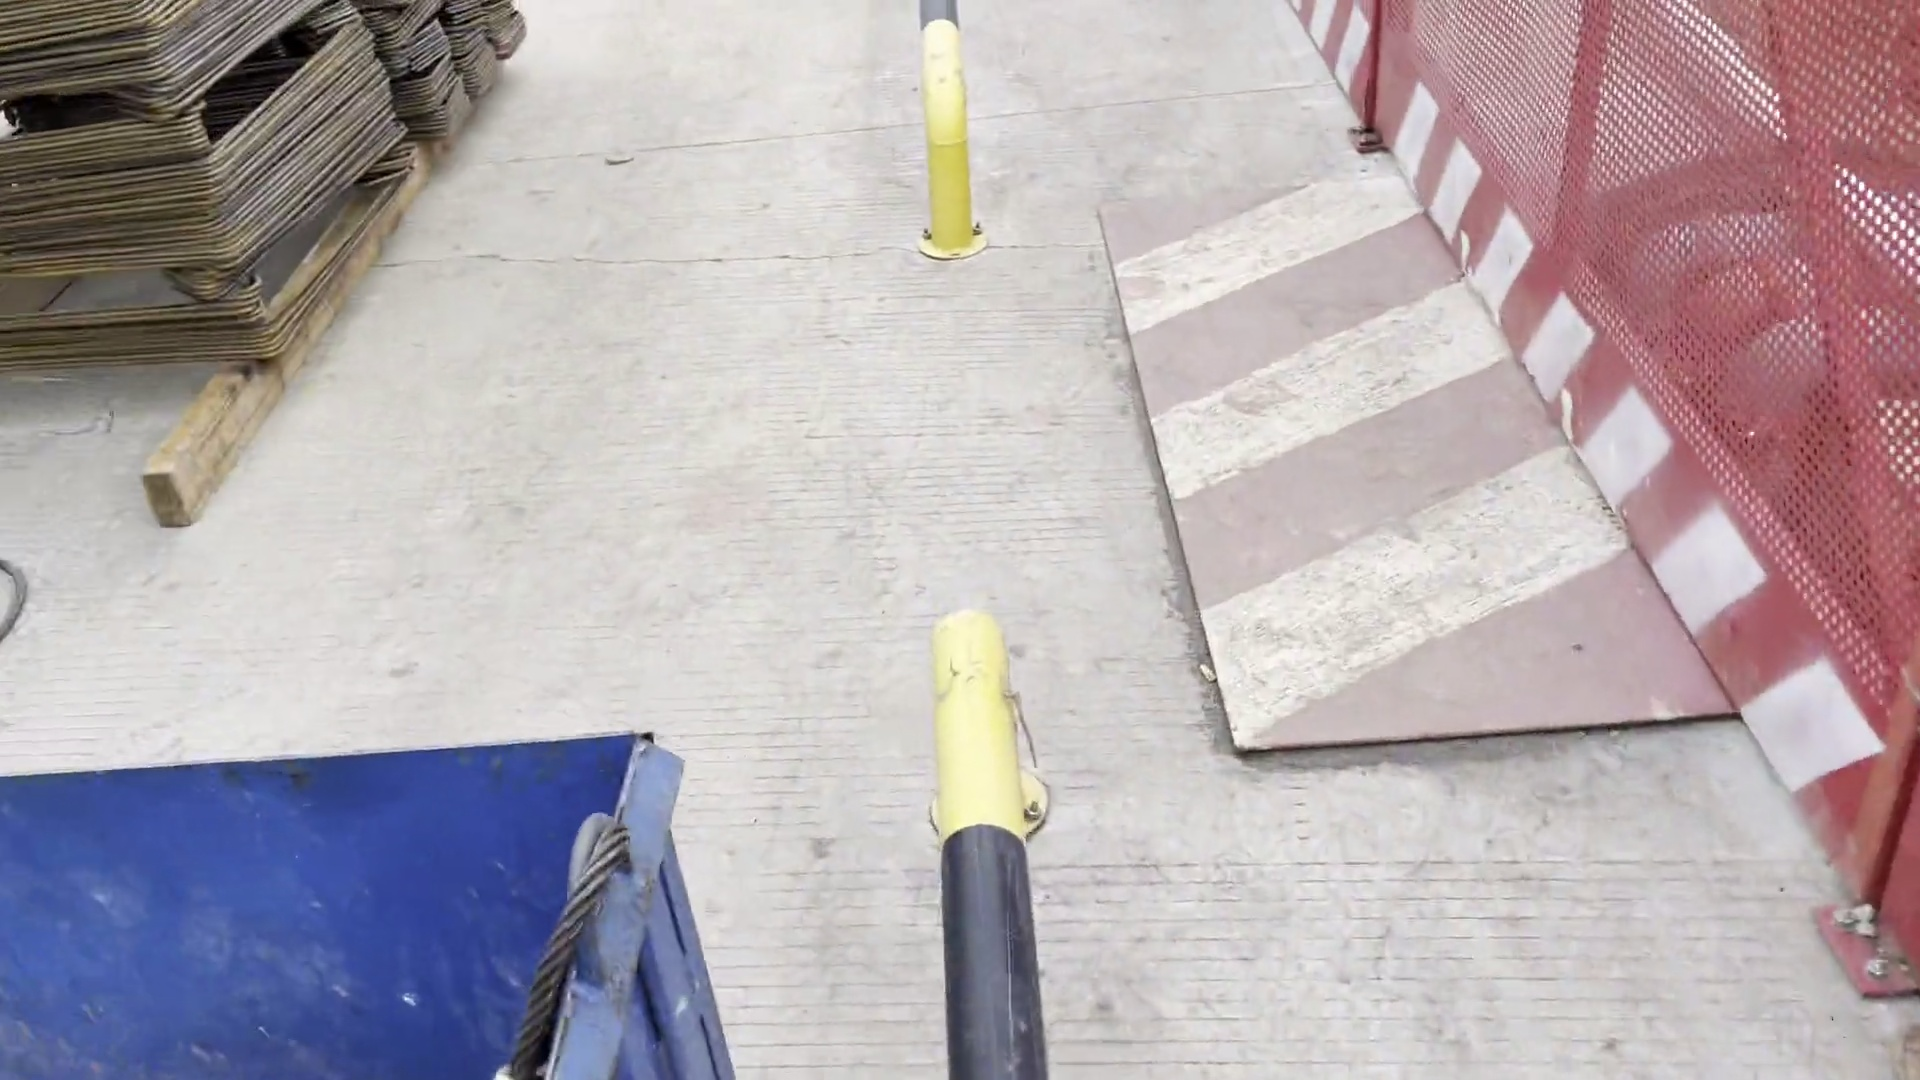fence: (1477, 245, 1920, 1029), (1295, 3, 1920, 272)
hopper: (3, 727, 762, 1080)
